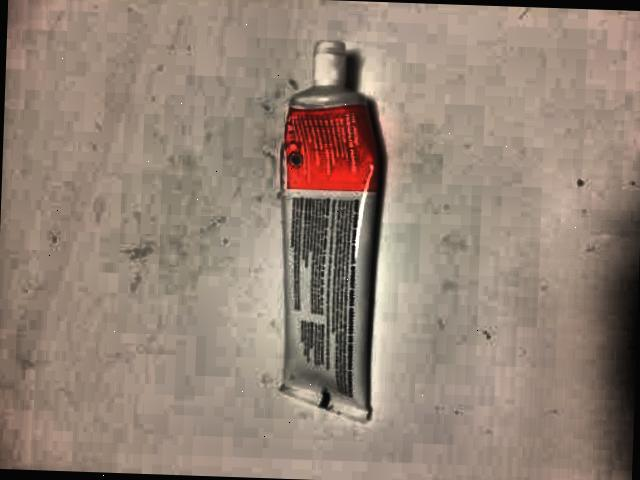Plastic: (246, 8, 406, 440)
